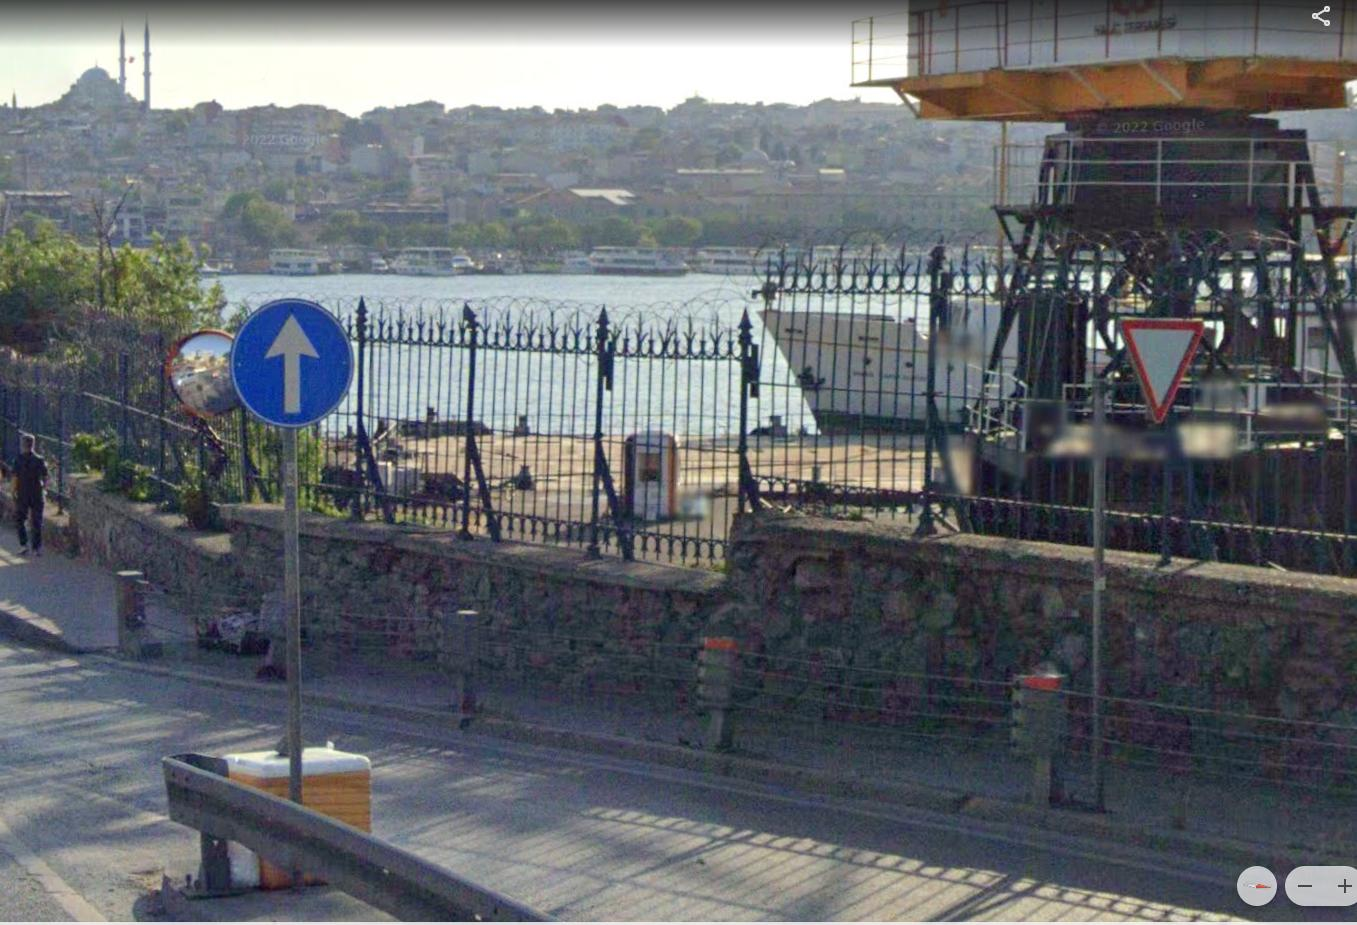forward: (238, 300, 353, 425)
